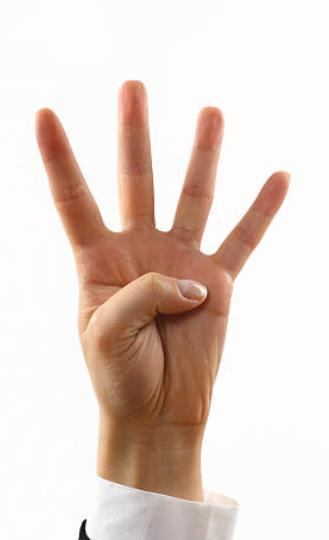right: (26, 74, 296, 426)
